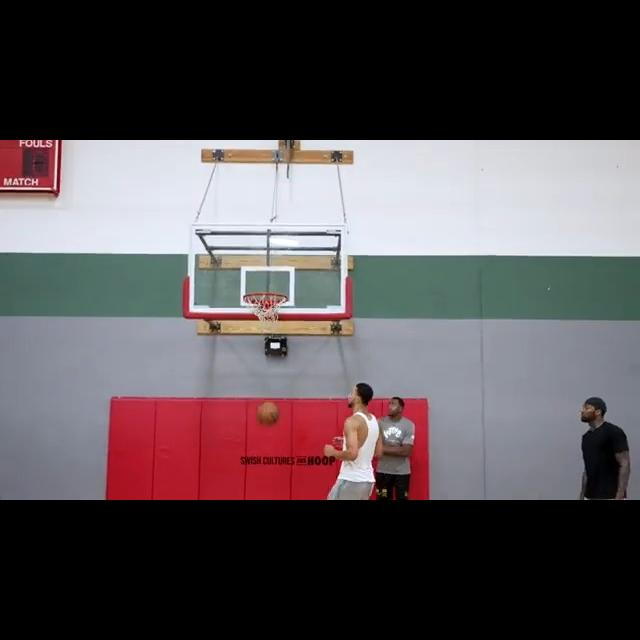basketball: (256, 402, 281, 427)
hoop: (243, 292, 289, 329)
person: (322, 375, 384, 500), (572, 391, 640, 500), (374, 393, 420, 500)
